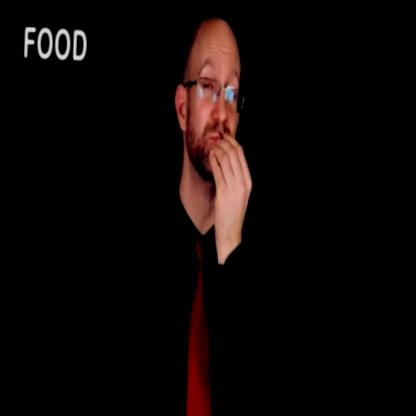Food: (129, 11, 282, 416)
